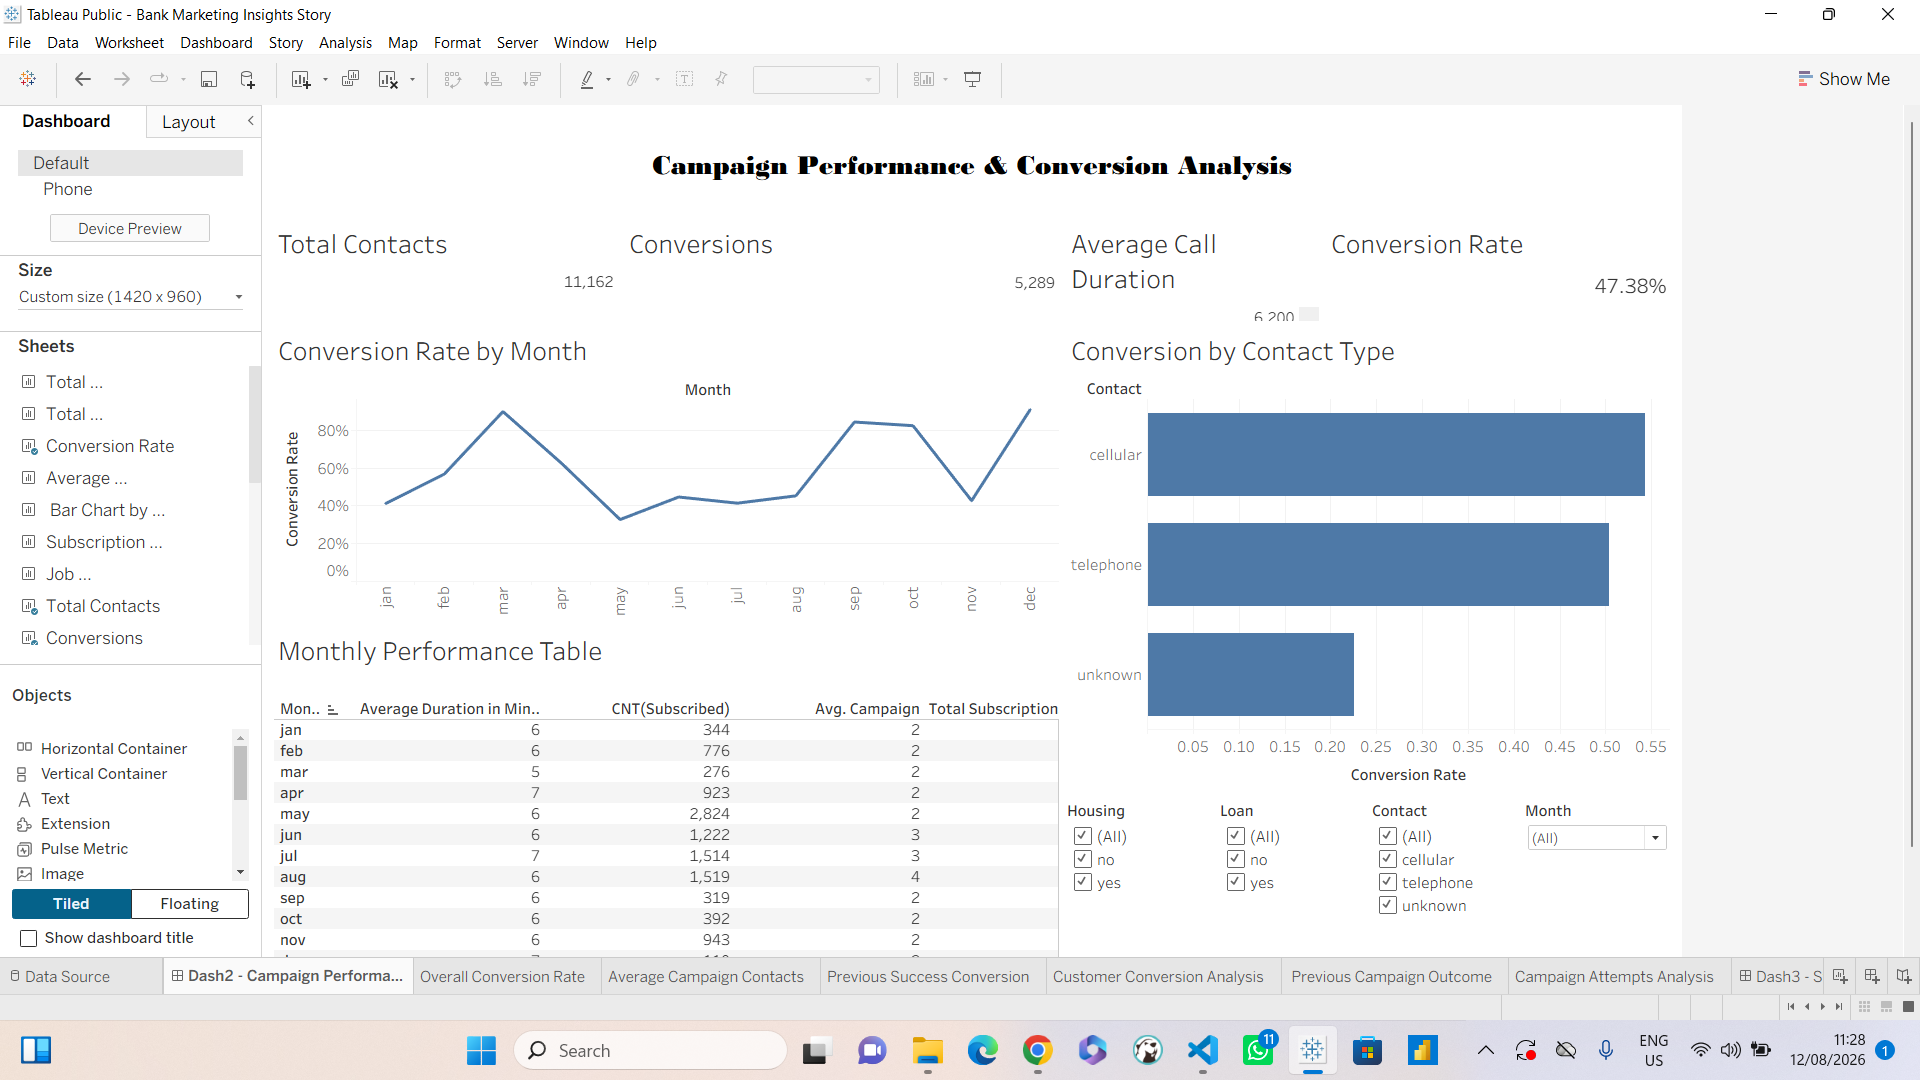

What the dashboard file says about the page in this screenshot:
{"tool":"tableau","page":{"name":"Dash2 - Campaign Performance & ConversionAnalysis","canvas":[1420,960],"ordinal":1},"visuals":[{"type":"text","box":[8,8,1404,105]},{"type":"worksheet","title":"Total Contacts","mark":"Automatic","box":[8,113,351,107]},{"type":"worksheet","title":"Conversions","mark":"Automatic","box":[359,113,442,107]},{"type":"worksheet","title":"Average Call Duration","mark":"Automatic","box":[801,113,260,107]},{"type":"worksheet","title":"Conversion Rate","mark":"Automatic","box":[1061,113,351,107]},{"type":"worksheet","title":"Conversion Rate by Month","mark":"Line","rows":["Calculation_0653690154676225"],"cols":["month"],"box":[8,220,793,300]},{"type":"worksheet","title":"Conversion by Contact Type","mark":"Automatic","rows":["contact"],"cols":["Calculation_0653690154676225"],"box":[801,220,611,471]},{"type":"worksheet","title":"Monthly Performance Table","mark":"Automatic","rows":["month"],"box":[8,520,793,432]},{"type":"filter","title":"Monthly Performance Table","param":"[federated.032rdgh0azyyfa1f0j2rj1orzvrk].[none:housing:nk]","box":[801,691,152.7,261]},{"type":"filter","title":"Monthly Performance Table","param":"[federated.032rdgh0azyyfa1f0j2rj1orzvrk].[none:loan:nk]","box":[953.7,691,152.7,261]},{"type":"filter","title":"Monthly Performance Table","param":"[federated.032rdgh0azyyfa1f0j2rj1orzvrk].[none:contact:nk]","box":[1106.5,691,152.7,261]},{"type":"filter","title":"Monthly Performance Table","param":"[federated.032rdgh0azyyfa1f0j2rj1orzvrk].[none:month:nk]","box":[1259.2,691,152.8,261]}]}

Visuals, with their boxes on the page's 1420x960 design canvas (x1, y1, x2, y2). These are canvas units, not pixel positions in the 1920x1080 screenshot, which may show the page scaled, cropped or inside an application window:
text: bbox(8, 8, 1412, 113)
"Total Contacts" worksheet: bbox(8, 113, 359, 220)
"Conversions" worksheet: bbox(359, 113, 801, 220)
"Average Call Duration" worksheet: bbox(801, 113, 1061, 220)
"Conversion Rate" worksheet: bbox(1061, 113, 1412, 220)
"Conversion Rate by Month" worksheet (Line marks): bbox(8, 220, 801, 520)
"Conversion by Contact Type" worksheet: bbox(801, 220, 1412, 691)
"Monthly Performance Table" worksheet: bbox(8, 520, 801, 952)
"Monthly Performance Table" filter: bbox(801, 691, 954, 952)
"Monthly Performance Table" filter: bbox(954, 691, 1106, 952)
"Monthly Performance Table" filter: bbox(1106, 691, 1259, 952)
"Monthly Performance Table" filter: bbox(1259, 691, 1412, 952)
